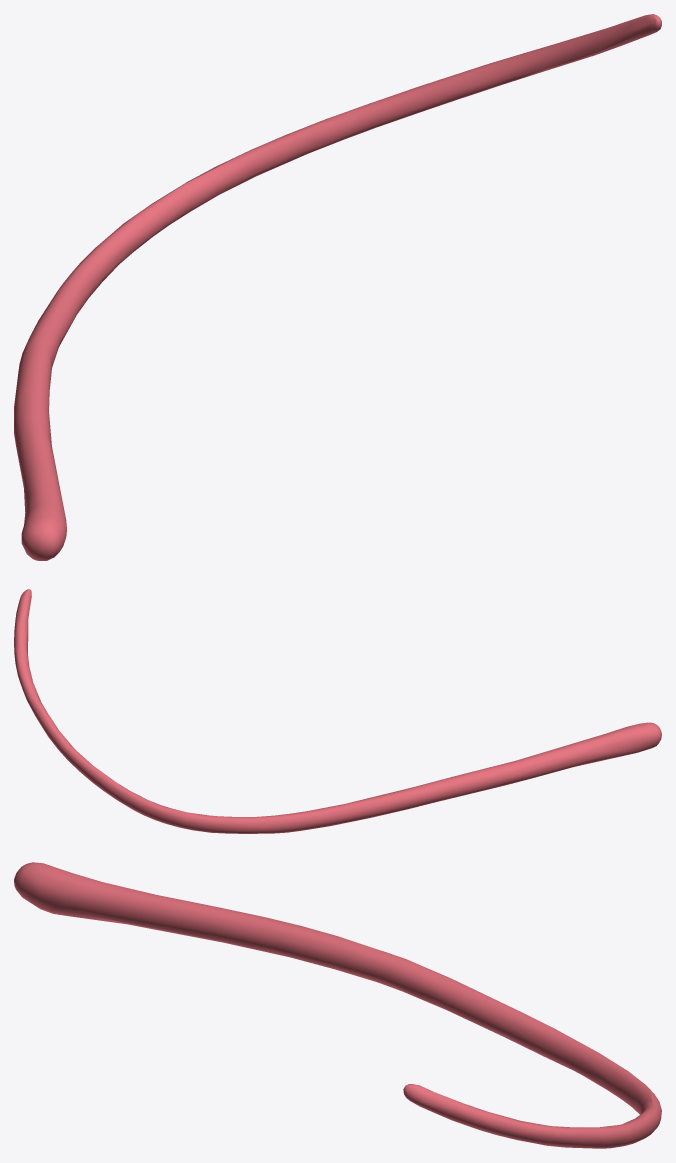
The model's file is fma71218_fj2292m.glb.
3 views of the same model, one above another, from view 1: azimuth 30°, elevation 25°; view 2: azimuth 150°, elevation 25°; view 3: azimuth 270°, elevation 25° (orthographic). The views are drawn at different scales.
Parts seen in each view (by area): view 1: FMA71218_FJ2292M; view 2: FMA71218_FJ2292M; view 3: FMA71218_FJ2292M.
Part boxes in pixels (left/top/right/bottom): FMA71218_FJ2292M: left=14, top=14, right=661, bottom=560; FMA71218_FJ2292M: left=14, top=589, right=661, bottom=833; FMA71218_FJ2292M: left=14, top=862, right=661, bottom=1148.
Size of the model in its own units: 0.0507 by 0.0126 by 0.0357.
